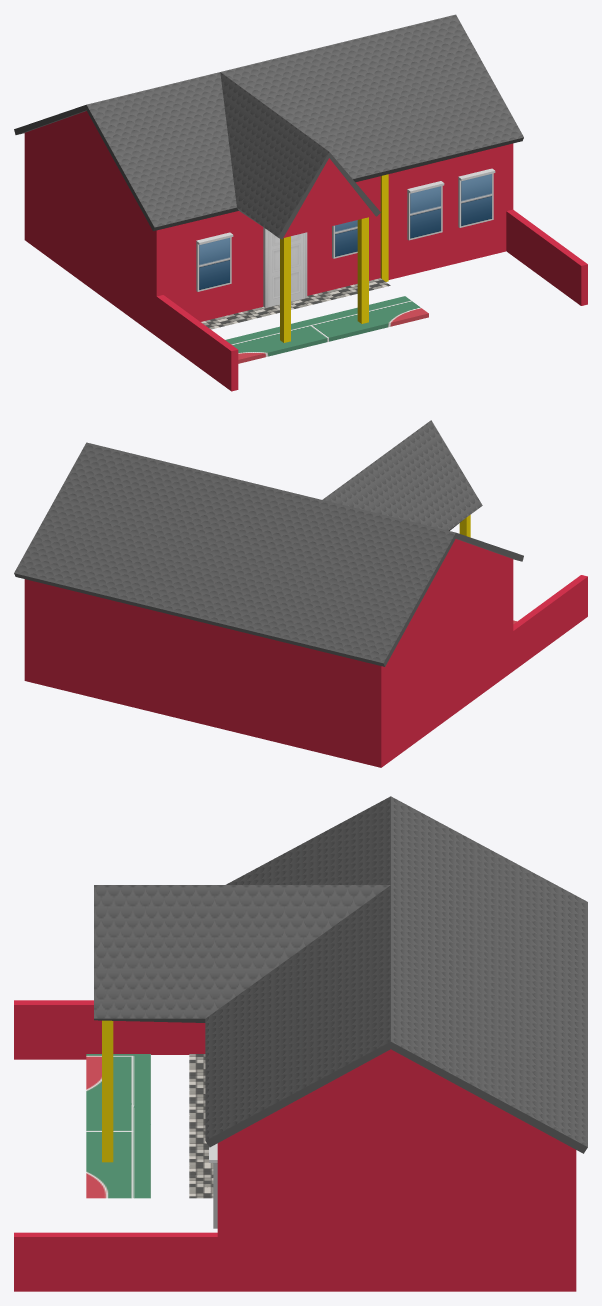
Rendered from Tetangga1.fbx.
3 renders of one model, top to bottom at view 1: azimuth 30°, elevation 25°; view 2: azimuth 150°, elevation 25°; view 3: azimuth 270°, elevation 25°, orthographic. The views are drawn at different scales.
Parts seen in each view (by area): view 1: Body1NPCK1_LOD0, Body2NPCK1_LOD0; view 2: Body1NPCK1_LOD0; view 3: Body1NPCK1_LOD0, Body2NPCK1_LOD0.
Boxes of the visible parts, box(x1,y1,x2,y2) form: Body1NPCK1_LOD0: box(14, 14, 587, 391); Body2NPCK1_LOD0: box(280, 174, 388, 342); Body1NPCK1_LOD0: box(14, 420, 587, 767); Body1NPCK1_LOD0: box(14, 796, 587, 1291); Body2NPCK1_LOD0: box(102, 1020, 113, 1162).
Size of what is drawn, in the model's own units: 1387 by 673 by 1372.
